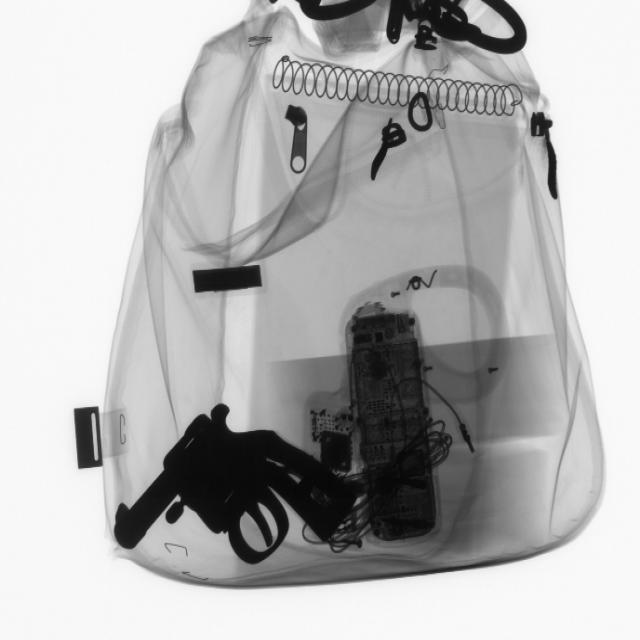GUN: (110, 403, 370, 577), (310, 1, 541, 54)
